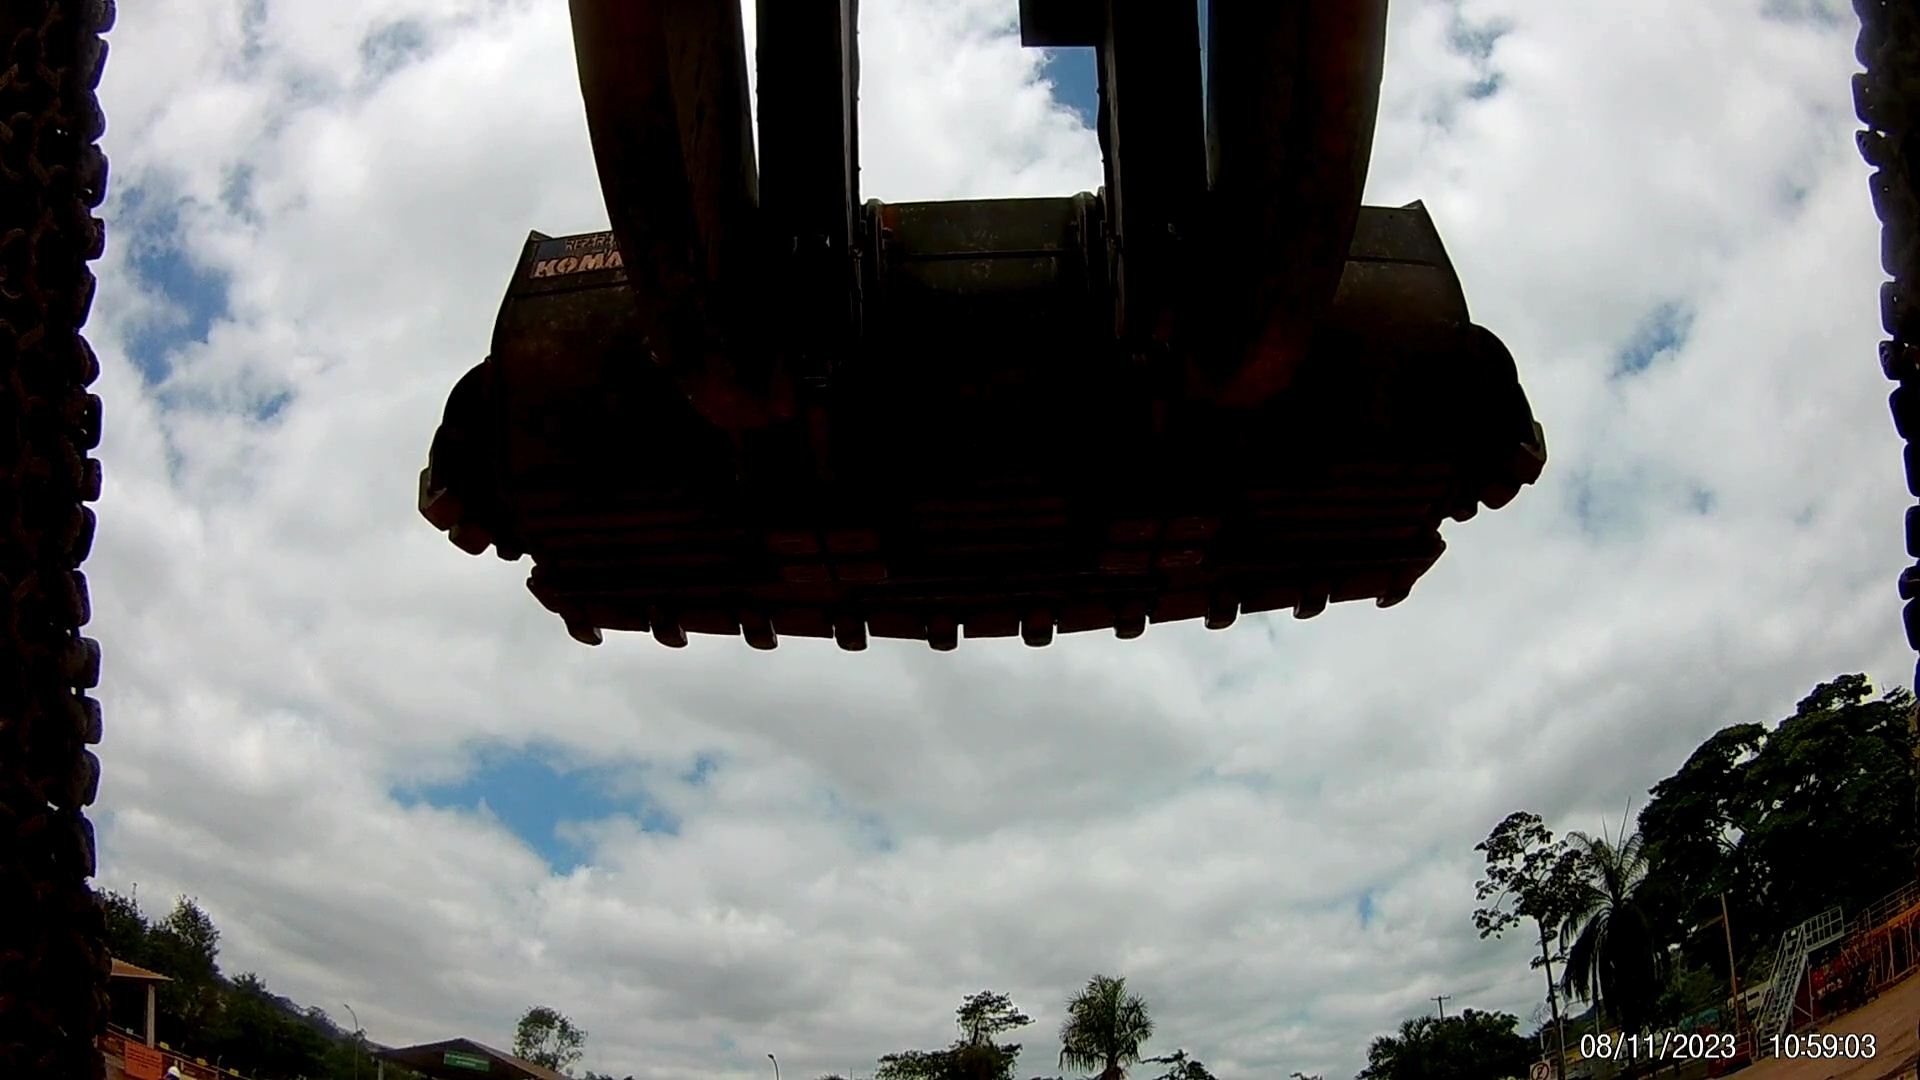FPS: (537, 595, 608, 669), (814, 605, 887, 669), (1373, 553, 1427, 638), (1193, 574, 1251, 653), (1101, 585, 1163, 655), (735, 603, 800, 665), (1284, 562, 1344, 626), (923, 607, 982, 665), (1015, 597, 1065, 665), (644, 607, 699, 653)
